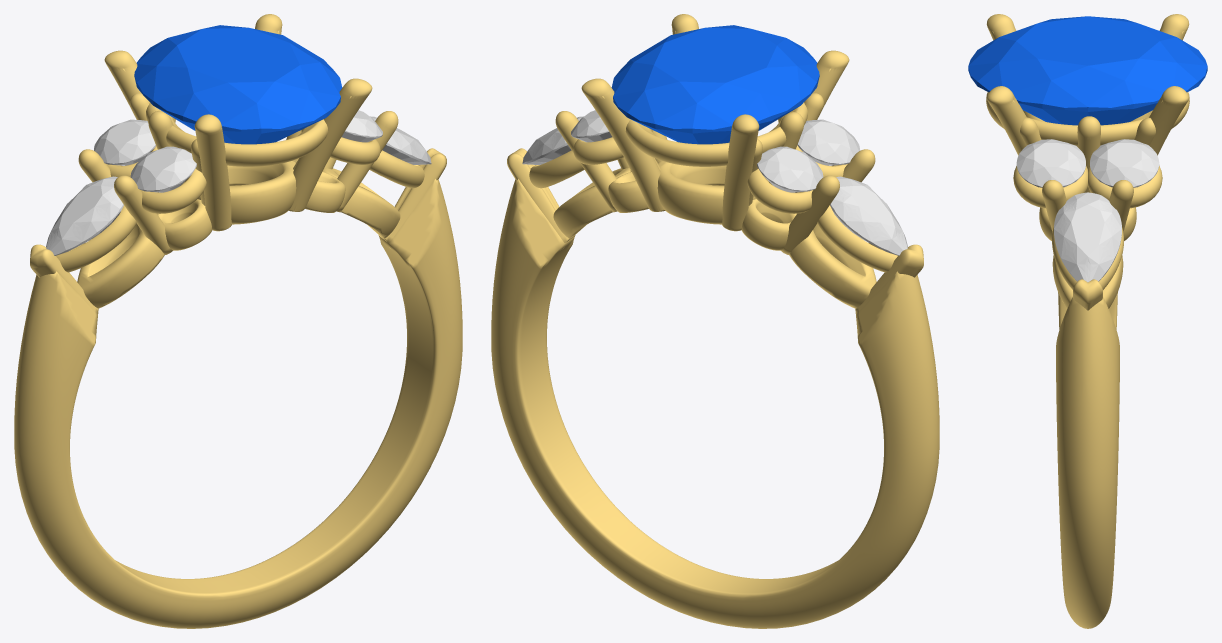
Rendered from RyanMongno2.66_blender.glb.
3 views of the same model, side by side, from view 1: azimuth 30°, elevation 25°; view 2: azimuth 150°, elevation 25°; view 3: azimuth 270°, elevation 25° (orthographic).
Parts seen in each view (by area): view 1: 2.66 ct PT for 3d model, 2.66 ct SAPPH for 3d model, 2.66 ct dia for 3d model.001, 2.66 ct dia for 3d model.005, 2.66 ct dia for 3d model.004, 2.66 ct dia for 3d model.002, 2.66 ct dia for 3d model; view 2: 2.66 ct PT for 3d model, 2.66 ct SAPPH for 3d model, 2.66 ct dia for 3d model.001, 2.66 ct dia for 3d model.004, 2.66 ct dia for 3d model.005, 2.66 ct dia for 3d model.002, 2.66 ct dia for 3d model.003; view 3: 2.66 ct PT for 3d model, 2.66 ct SAPPH for 3d model, 2.66 ct dia for 3d model.002, 2.66 ct dia for 3d model, 2.66 ct dia for 3d model.003.
Part boxes in pixels (box(x1,y1,x2,y2)): 2.66 ct PT for 3d model: box(14, 14, 462, 628); 2.66 ct SAPPH for 3d model: box(134, 25, 342, 144); 2.66 ct dia for 3d model.001: box(46, 176, 123, 255); 2.66 ct dia for 3d model.005: box(130, 146, 196, 192); 2.66 ct dia for 3d model.004: box(94, 119, 155, 165); 2.66 ct dia for 3d model.002: box(370, 116, 431, 164); 2.66 ct dia for 3d model: box(341, 110, 382, 142); 2.66 ct PT for 3d model: box(491, 14, 939, 628); 2.66 ct SAPPH for 3d model: box(611, 25, 819, 144); 2.66 ct dia for 3d model.001: box(830, 176, 907, 255); 2.66 ct dia for 3d model.004: box(757, 146, 823, 192); 2.66 ct dia for 3d model.005: box(797, 119, 859, 165); 2.66 ct dia for 3d model.002: box(522, 116, 583, 164); 2.66 ct dia for 3d model.003: box(571, 110, 612, 142); 2.66 ct PT for 3d model: box(986, 14, 1189, 628); 2.66 ct SAPPH for 3d model: box(968, 16, 1207, 125); 2.66 ct dia for 3d model.002: box(1054, 192, 1121, 282); 2.66 ct dia for 3d model: box(1016, 139, 1085, 187); 2.66 ct dia for 3d model.003: box(1090, 139, 1159, 187).
Bounding box in the file's own units: 20.51 × 25.11 × 9.65.
